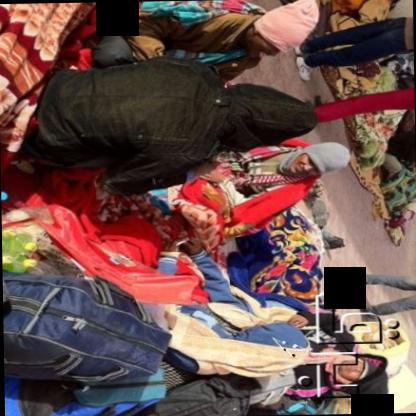backpack: (1, 273, 173, 381), (3, 367, 166, 416), (139, 376, 257, 416), (242, 393, 353, 415)
suitcase: (1, 271, 168, 384), (123, 377, 251, 416)
